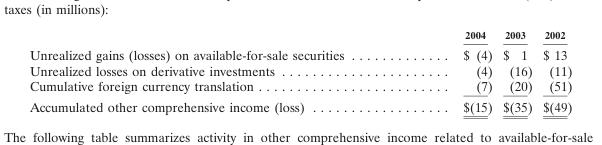table: (28, 28, 571, 114)
table column: (28, 28, 402, 114), (402, 28, 497, 114), (497, 28, 536, 114), (536, 28, 571, 114)
table column header: (28, 28, 571, 43)
table row: (28, 43, 571, 62), (28, 95, 571, 114), (28, 77, 571, 95), (28, 28, 571, 43), (28, 62, 571, 77)
